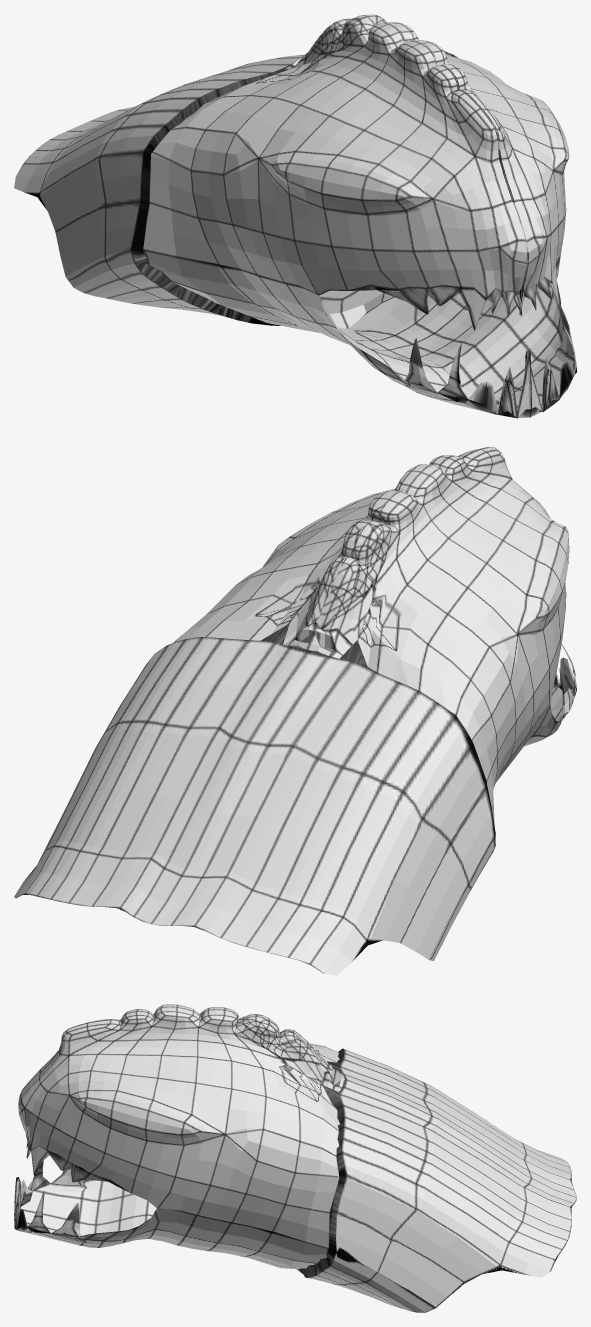
File: SecondHead3.obj
3 views of the same model, one above another, from view 1: azimuth 30°, elevation 25°; view 2: azimuth 150°, elevation 25°; view 3: azimuth 270°, elevation 25° (orthographic). The views are drawn at different scales.
Visible parts, largest first — view 1: secondHead_Cube.002; view 2: secondHead_Cube.002; view 3: secondHead_Cube.002.
Boxes of the visible parts, left/top/right/bottom form: secondHead_Cube.002: left=14, top=14, right=576, bottom=418; secondHead_Cube.002: left=14, top=447, right=576, bottom=975; secondHead_Cube.002: left=14, top=1004, right=576, bottom=1312.
Size of the model in its own units: 0.8658 by 0.7972 by 1.56.
